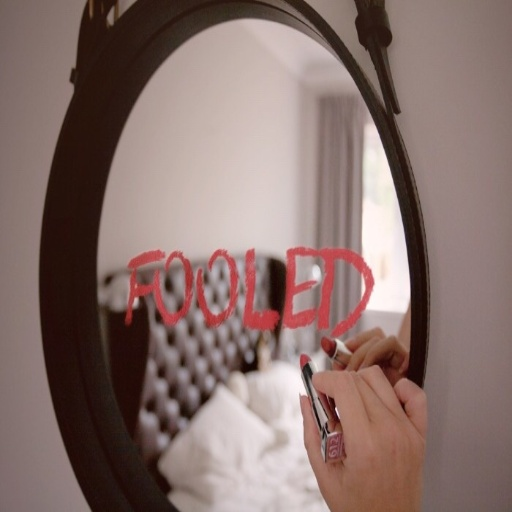hand: (304, 303, 432, 504)
